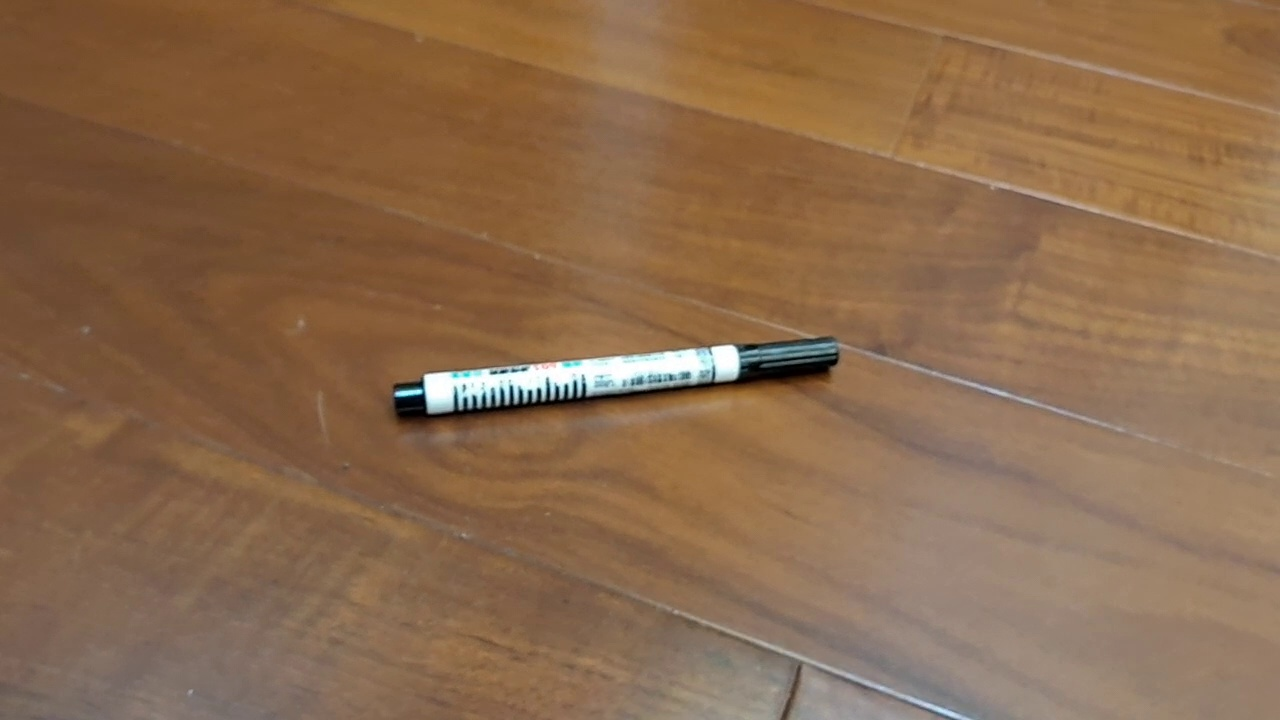pen: (392, 335, 840, 422)
